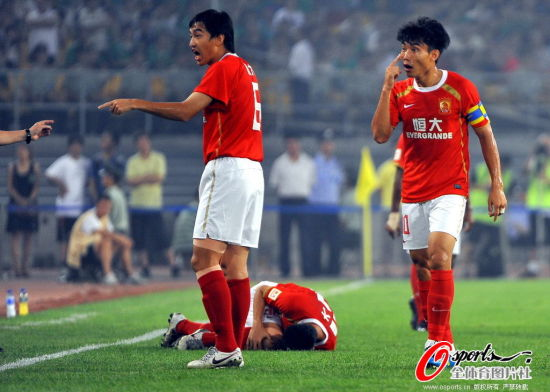10+: (1, 2, 538, 376)
down: (148, 267, 344, 356)
